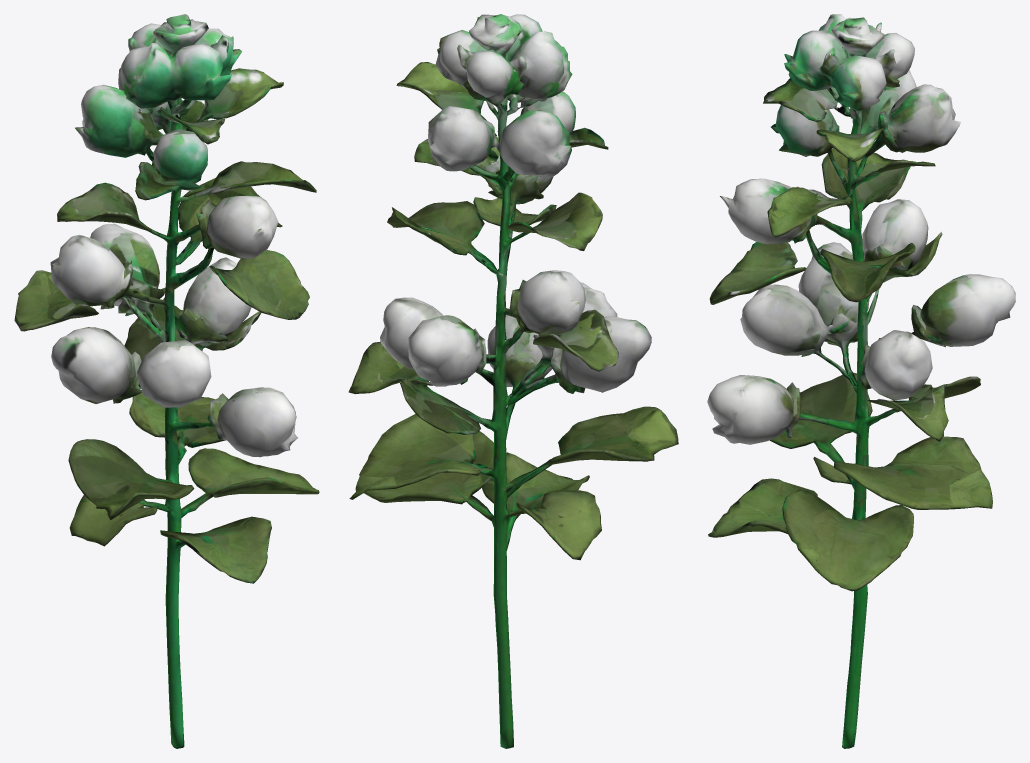
File: cotton.glb
3 views of the same model, side by side, from view 1: azimuth 30°, elevation 25°; view 2: azimuth 150°, elevation 25°; view 3: azimuth 270°, elevation 25° (orthographic).
Bounding box in the file's own units: 0.7837 × 2 × 0.7683.
1 material, 1 textured.
